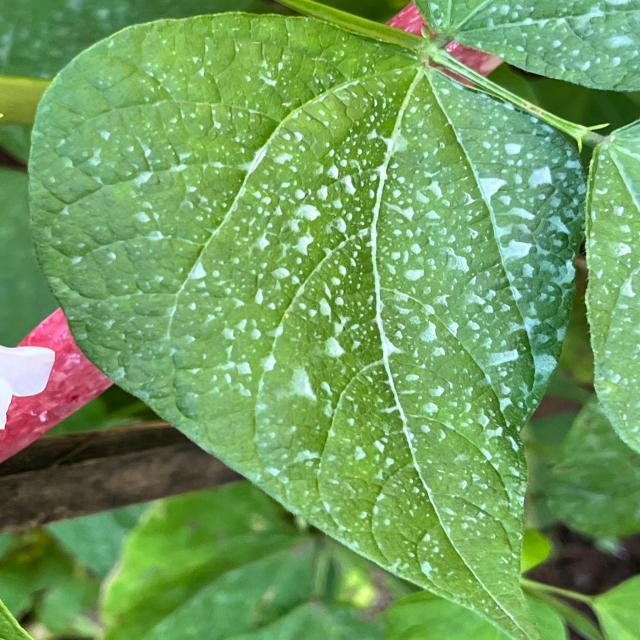embun tepung: (86, 99, 592, 543)
